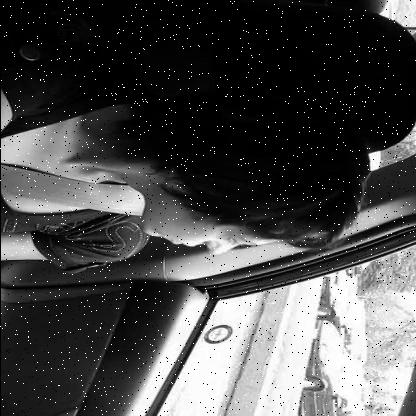seatbelt: (0, 78, 386, 249)
